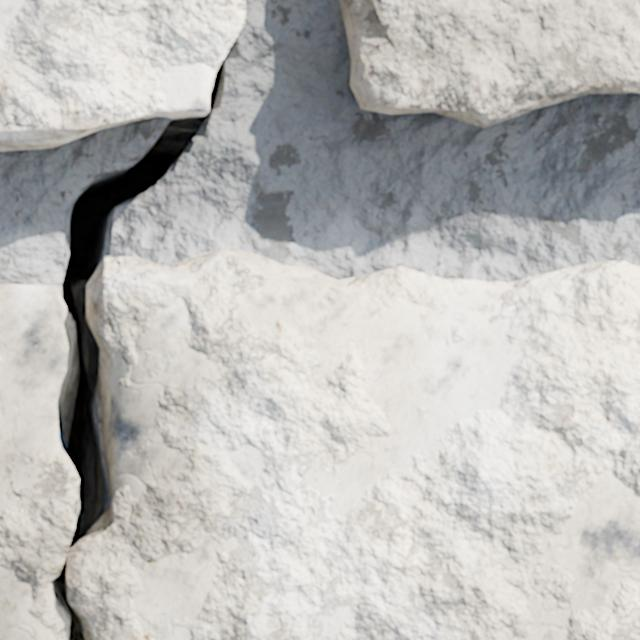broken_brick: (0, 248, 639, 639)
crack: (0, 0, 245, 550), (340, 0, 639, 127), (47, 558, 94, 639)
